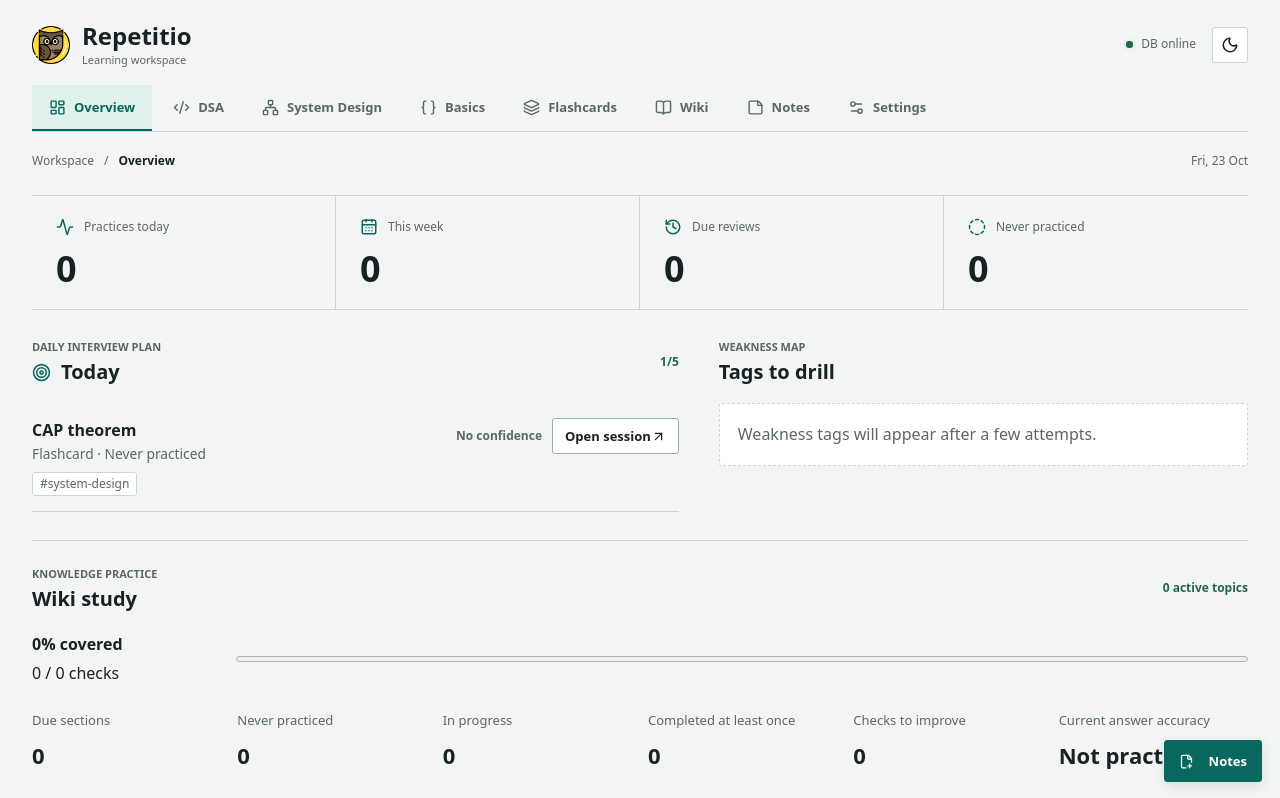
Test: App › opens a daily flashcard plan item through its learning session
Expected: the text "CAP theorem" is shown, [32,419,136,441]
Click the button "Open session": click(615, 436) [552,418,679,454]
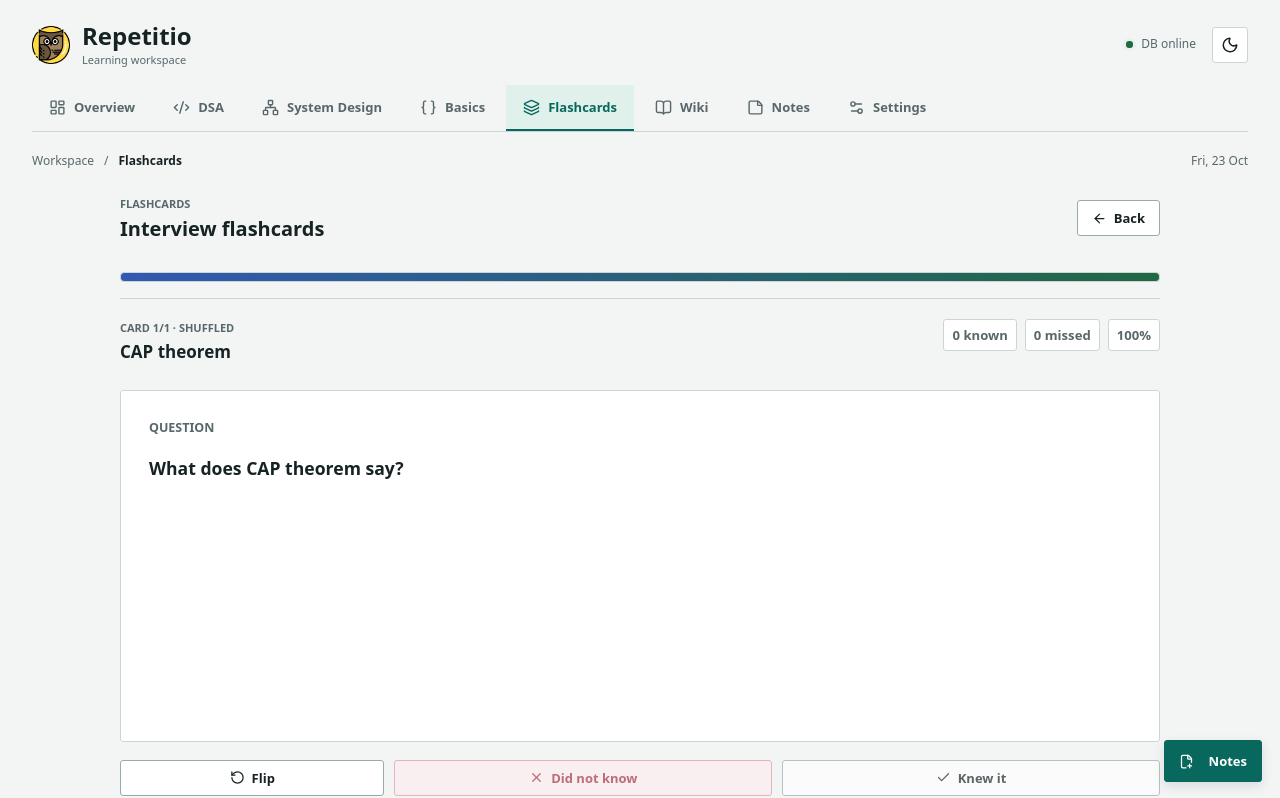
Expected: the heading "CAP theorem" is shown, [120,340,234,364]
